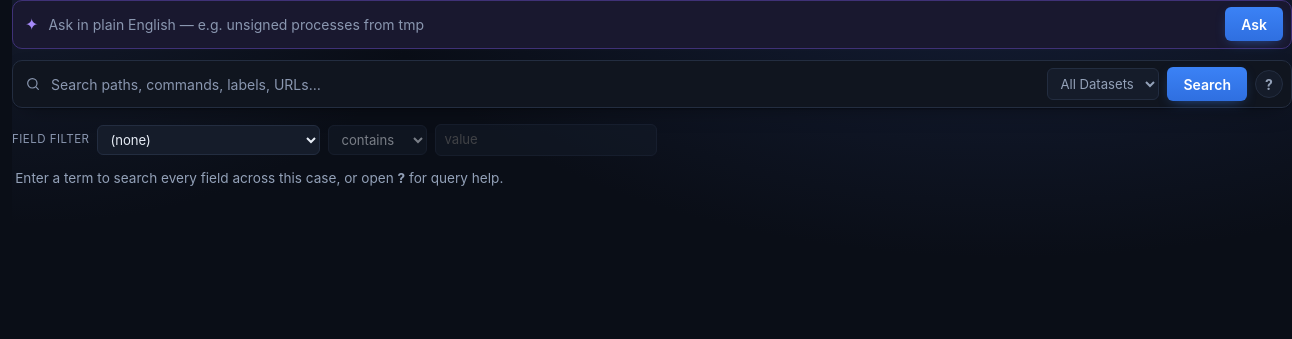
Scenario: Search › runs a structured field filter
Select "raptorscope.persistence.type" in the dropdown named "filter field" at [209, 140], box [98,125,320,155]
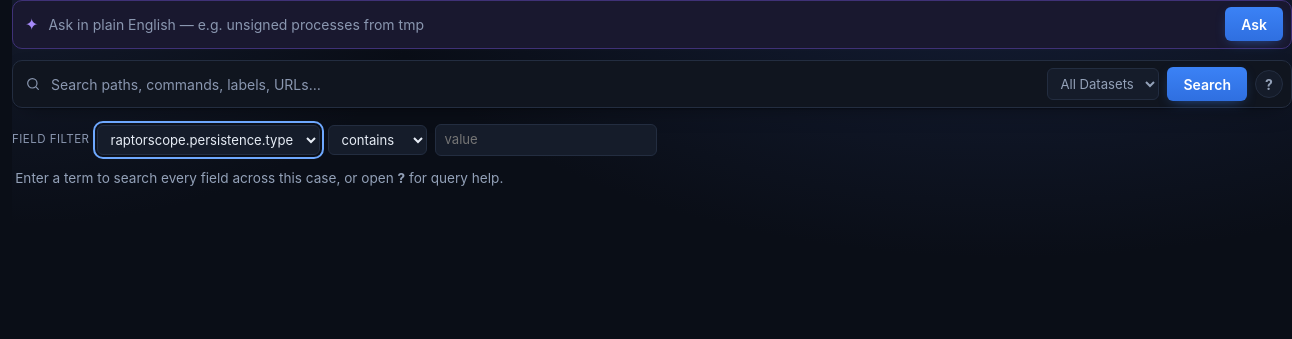
Select "eq" in the dropdown named "filter operator" at [378, 140], box [328,125,428,155]
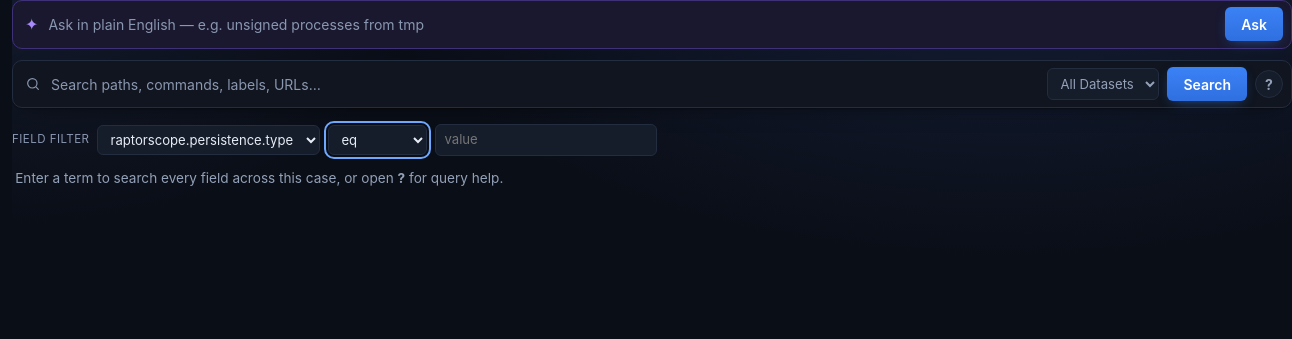
Type "btm" into the field named "filter value" at [546, 140], box [436,124,658,156]
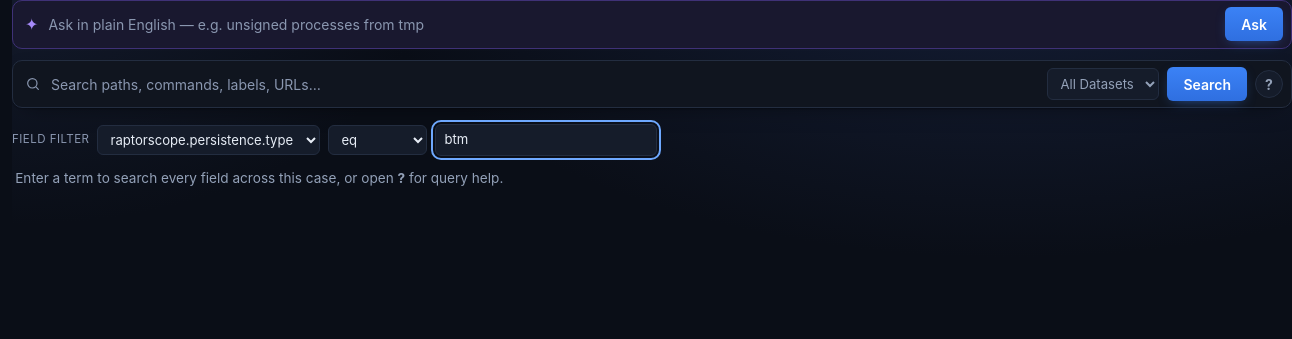
Click the button "Search" at [1207, 84], box [1168,67,1247,101]
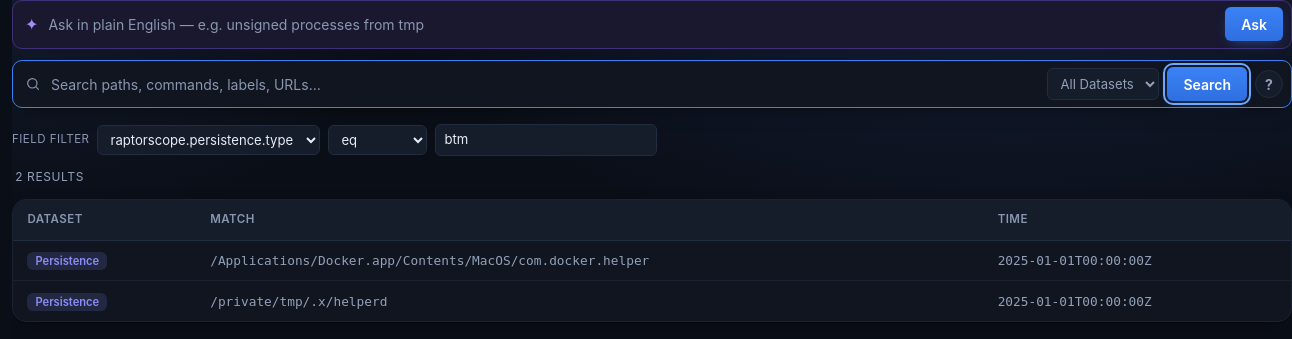
Now the 1st button with test id "search-row" is shown, box [13,240,1291,281]
